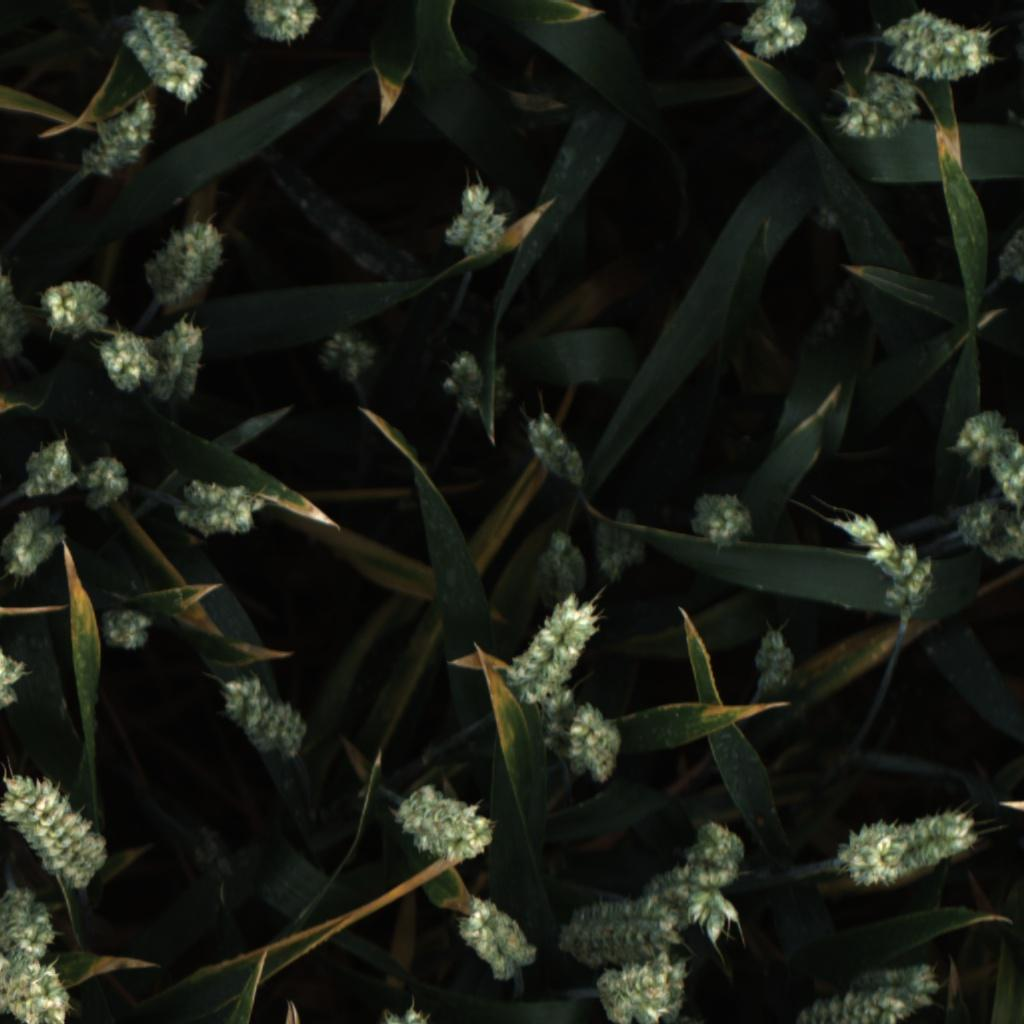0-0: (0, 769, 112, 887), (829, 508, 940, 620), (507, 597, 604, 707), (382, 778, 503, 864), (556, 895, 683, 975), (882, 4, 1003, 83), (121, 6, 214, 106), (653, 868, 751, 960), (138, 219, 236, 310), (209, 673, 309, 760), (455, 893, 540, 986), (78, 93, 166, 181), (588, 955, 690, 1024), (168, 476, 271, 543), (894, 805, 981, 878), (0, 949, 83, 1024), (675, 817, 753, 895), (836, 71, 918, 144), (834, 817, 914, 890), (560, 706, 626, 793), (686, 482, 763, 554), (734, 1, 814, 70), (445, 172, 507, 261), (149, 321, 213, 406), (36, 273, 115, 340), (13, 431, 84, 501), (950, 403, 1020, 474), (952, 500, 1024, 568), (0, 508, 62, 586), (532, 523, 589, 607), (524, 411, 586, 487), (853, 959, 940, 1013), (0, 230, 37, 356), (0, 886, 60, 961), (747, 614, 799, 697), (789, 989, 912, 1024), (100, 328, 155, 403), (315, 324, 380, 387), (240, 1, 322, 50), (536, 687, 586, 764), (595, 508, 647, 581), (76, 451, 138, 510), (987, 442, 1024, 539), (96, 603, 154, 658), (188, 827, 236, 884), (0, 643, 35, 719), (449, 351, 486, 418), (995, 225, 1024, 284), (489, 365, 514, 418), (380, 1006, 430, 1024), (440, 377, 457, 395)
